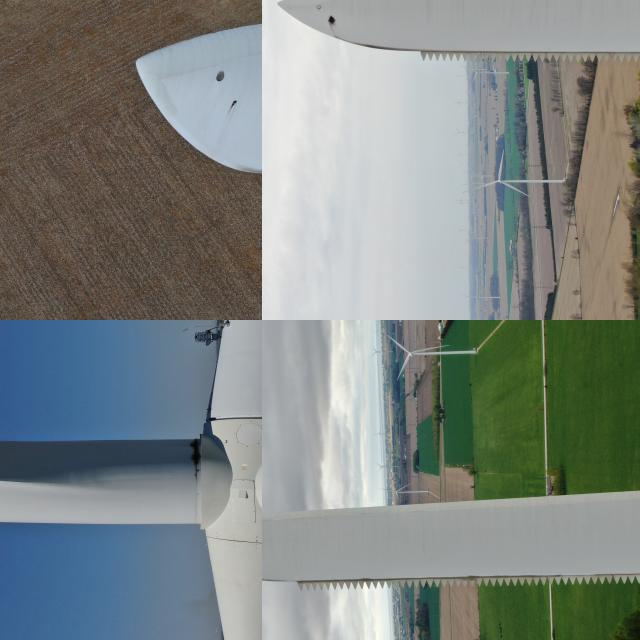damage: (179, 437, 207, 473), (324, 14, 340, 26), (225, 97, 241, 107)
